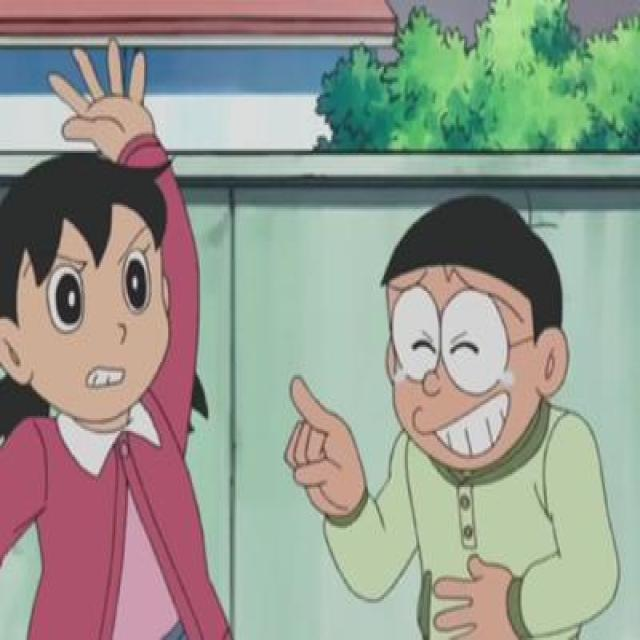nobita: (374, 192, 573, 478)
